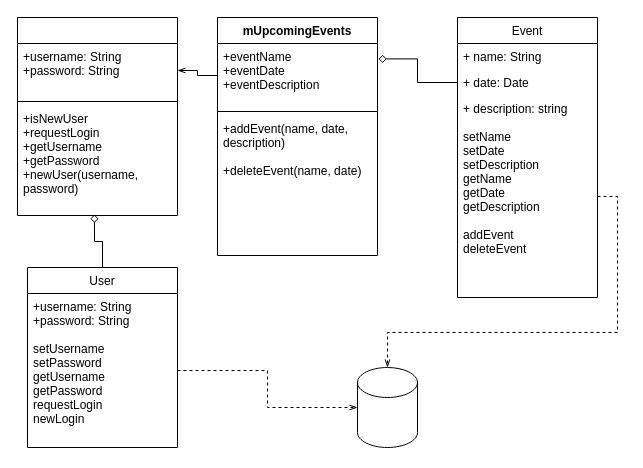
Some shapes in this 643 by 468 pixel diagram are drawn without their labels. Each missing label, with the box of its shape:
EventDB: (356, 366, 418, 448)
mLogin: (16, 16, 178, 216)
